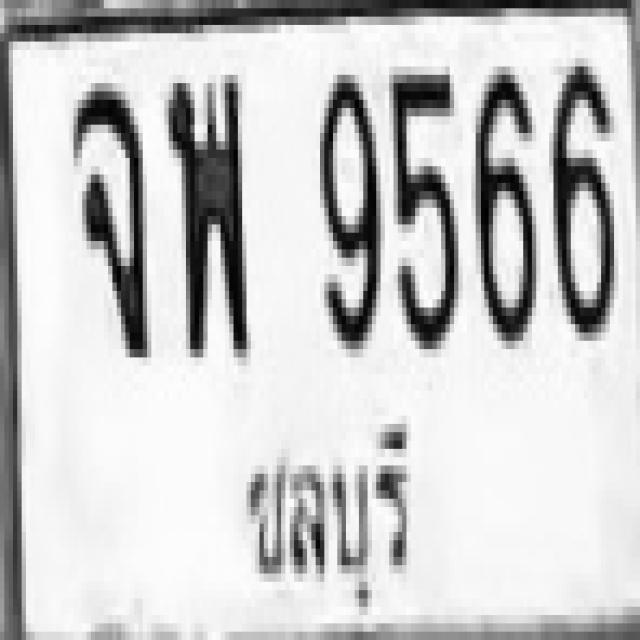17ChorChan: (69, 79, 147, 353)
39PhorPan: (165, 71, 246, 353)
5: (389, 66, 454, 341)
6: (549, 58, 614, 333), (472, 66, 536, 341)
9: (316, 66, 376, 341)
Chonburi: (239, 416, 430, 633)
